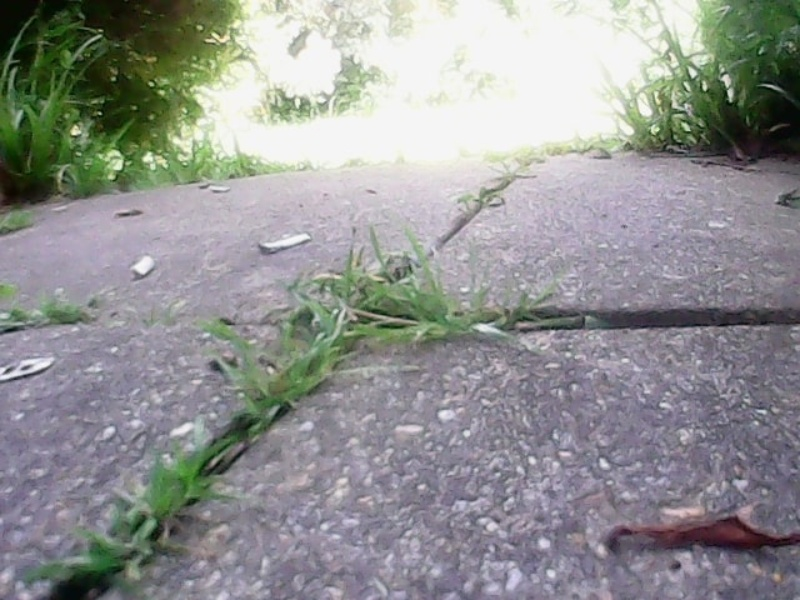cig: (249, 232, 316, 253), (129, 253, 155, 280), (113, 209, 147, 220), (210, 183, 233, 195)
